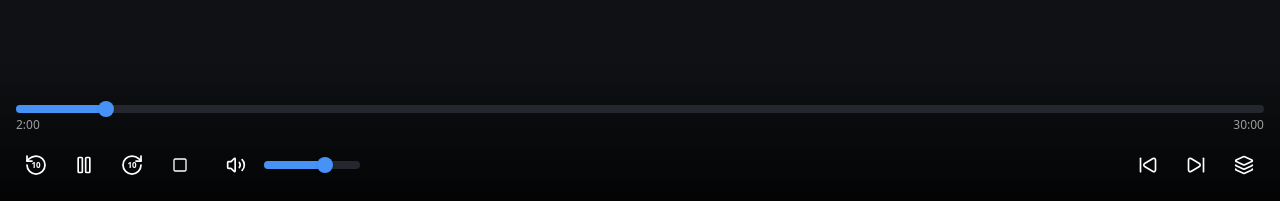
Test: Controls source menu › lists the sources in order, marking the default and the one playing
The width and height of the screenshot is (1280, 201).
Click the button named "Source" at (1244, 165), box [1224,145,1264,185]
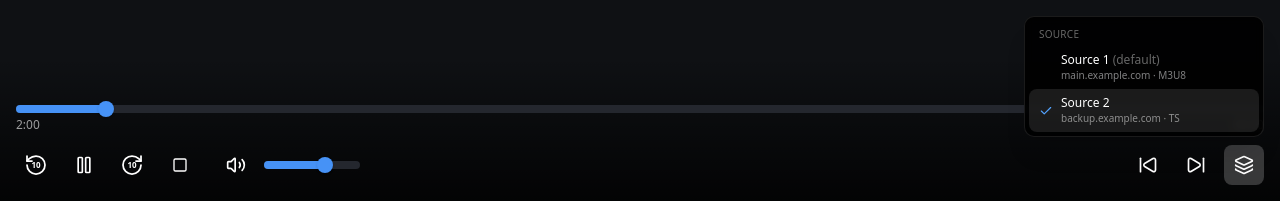
Expected: the button named "Source" is expanded, [1224,145,1264,185]
Expected: the menu item "Source 1 (default) main.example.com · M3U8" is shown, [1029,46,1259,89]
Expected: the menu item "Source 2 backup.example.com · TS" is shown, [1029,89,1259,132]
